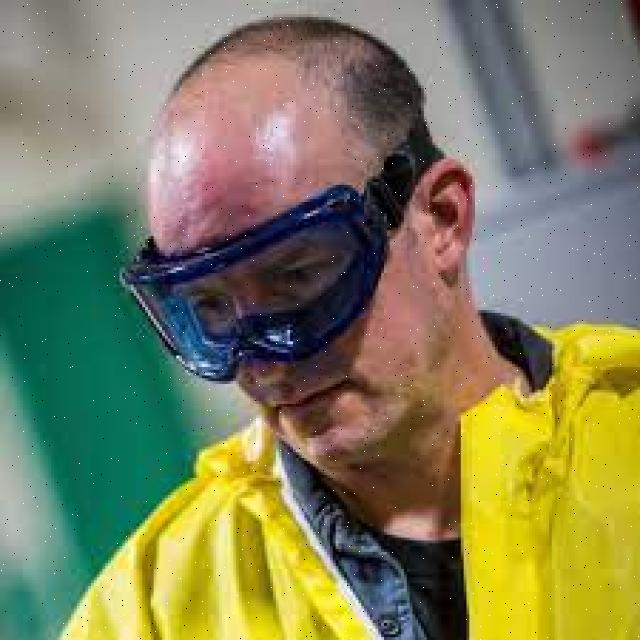goggles_on: (121, 110, 456, 384)
